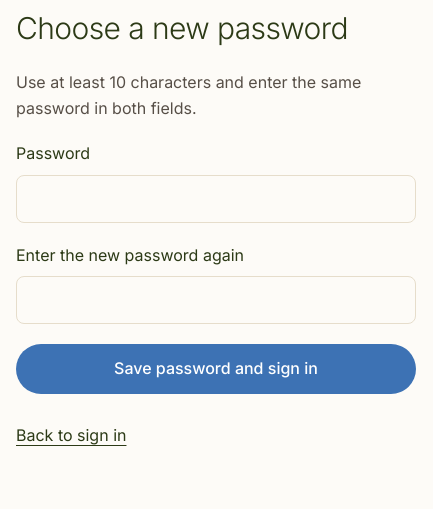
Scenario: password forms › checks password confirmation before any server request
This screenshot has width=433, height=509.
Step 1. Type "1234567890" into the password field labelled "Password" → (216, 199), box [16, 175, 416, 223]
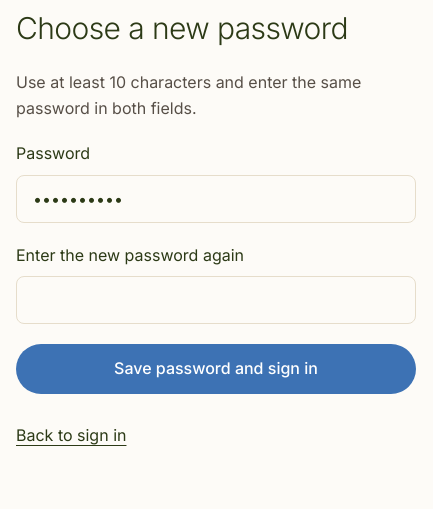
Step 2. Type "different-password" into the password field labelled "Enter the new password again" → (216, 300), box [16, 276, 416, 324]
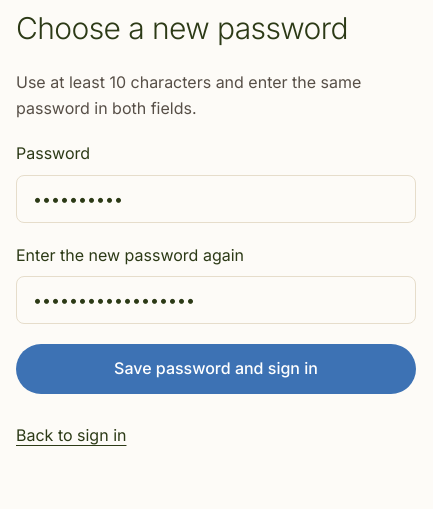
Step 3. Submit the form, box [16, 70, 416, 394]
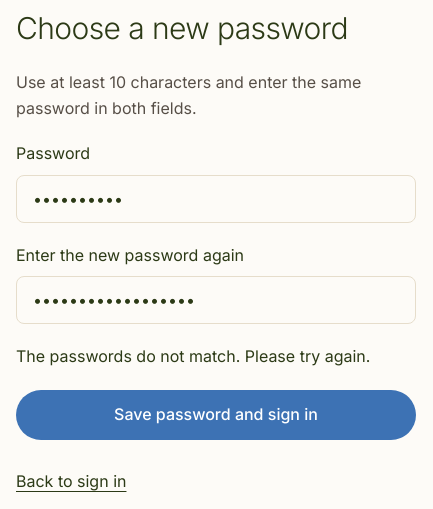
Expected: the message reads "The passwords do not match. Please try again.", [16, 346, 370, 366]
